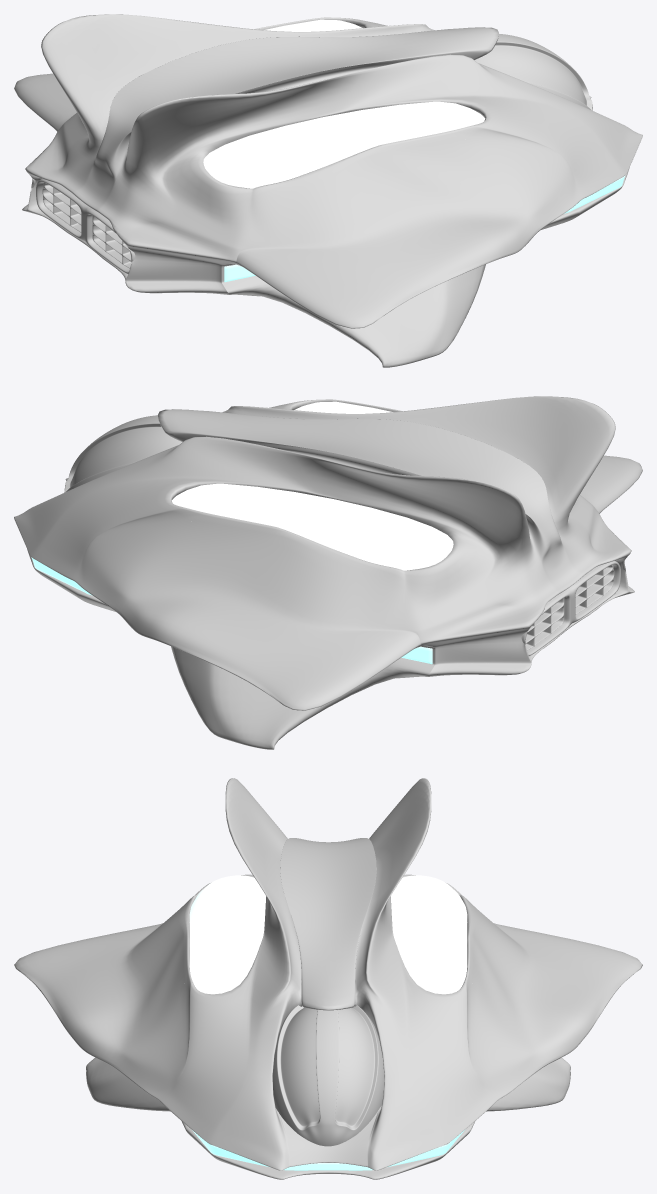
Rendered from ship_small.fbx.
The picture shows the model from 3 angles, top to bottom: view 1: azimuth 30°, elevation 25°; view 2: azimuth 150°, elevation 25°; view 3: azimuth 270°, elevation 25°; orthographic projection. The views are drawn at different scales.
Parts seen in each view (by area): view 1: runko, tanks, ohjaamo, säleikkö, säleikkösuoja, light; view 2: runko, tanks, ohjaamo, säleikkö, säleikkösuoja, light; view 3: runko, tanks, ohjaamo, light.
Part boxes in pixels (x1,y1,x2,y2): runko: (14,14,642,367); tanks: (203,19,485,188); ohjaamo: (474,34,592,110); säleikkö: (42,182,131,268); säleikkösuoja: (36,178,131,273); light: (224,175,625,282); runko: (14,396,642,749); tanks: (171,401,453,570); ohjaamo: (64,415,182,492); säleikkö: (525,564,614,650); säleikkösuoja: (525,560,620,655); light: (31,557,432,664); runko: (14,778,642,1179); tanks: (189,875,467,994); ohjaamo: (272,1005,384,1146); light: (191,1129,465,1170).
Bounding box in the file's own units: 637 × 279 × 692.
